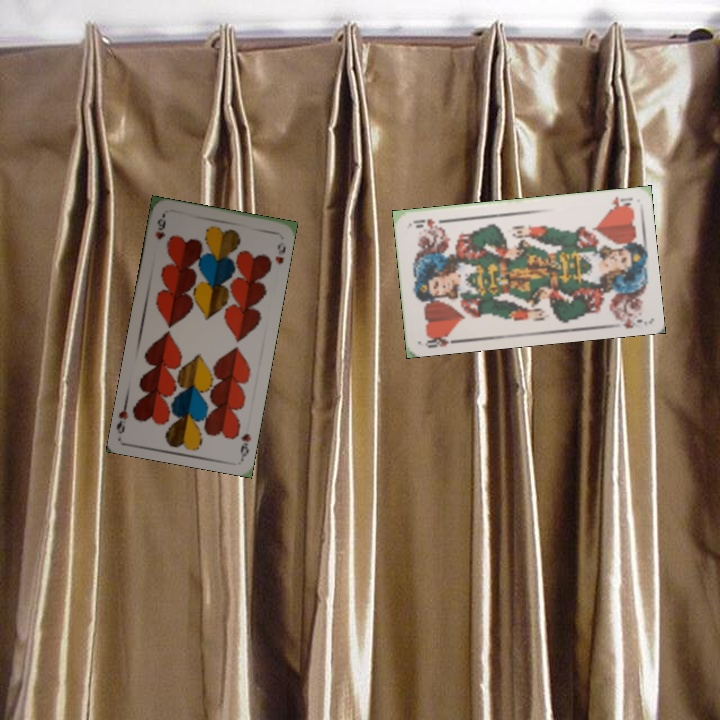H9: (236, 429, 253, 460), (151, 212, 168, 242)
HO: (421, 330, 461, 351), (605, 192, 635, 212)
